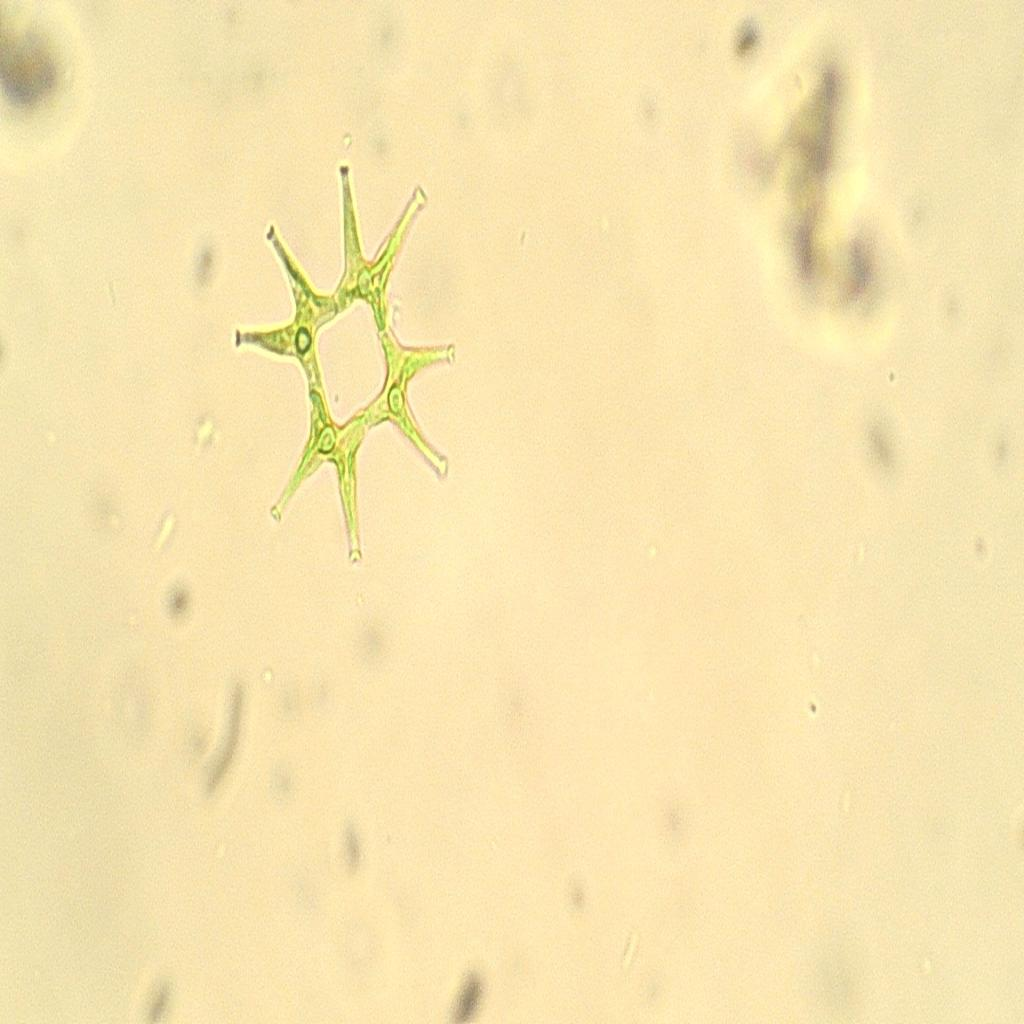Pediastrum_CO: (228, 153, 459, 566)
